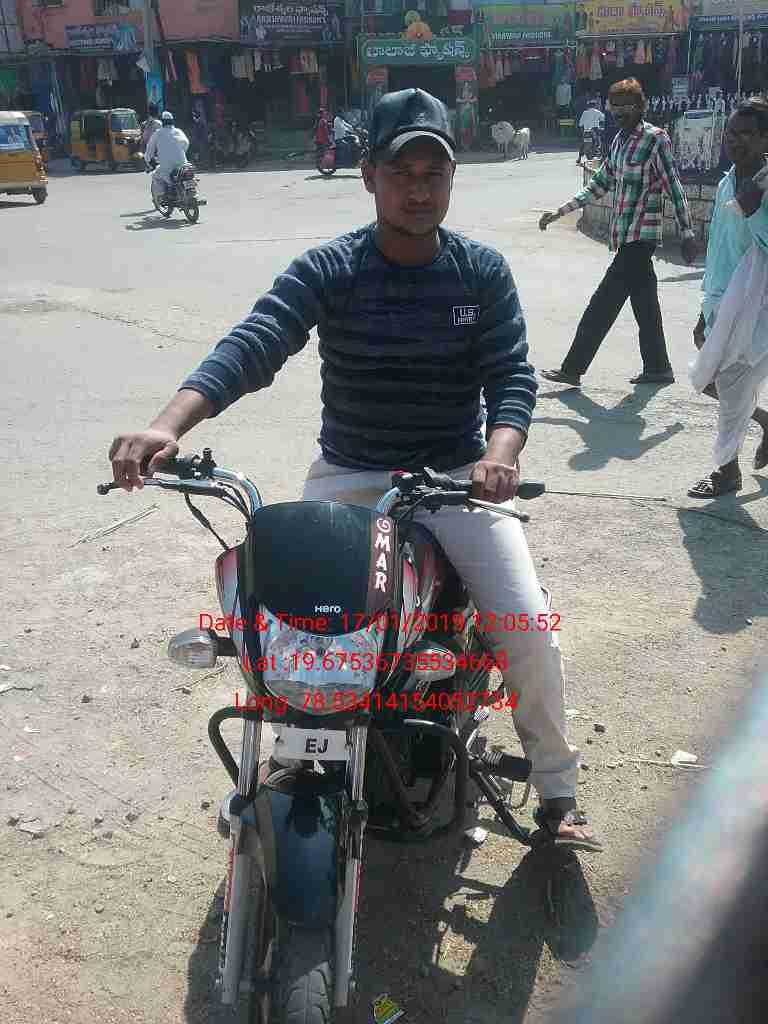plate: (263, 716, 365, 769)
